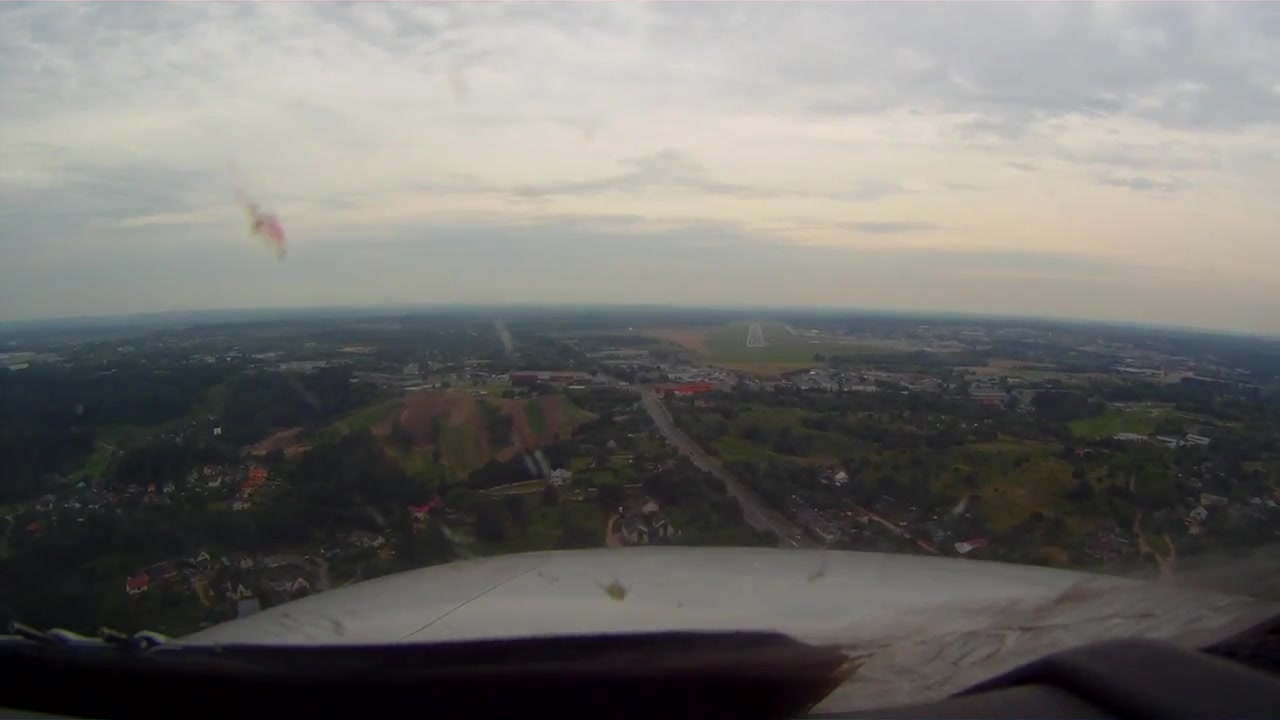runway: (745, 324, 766, 349)
